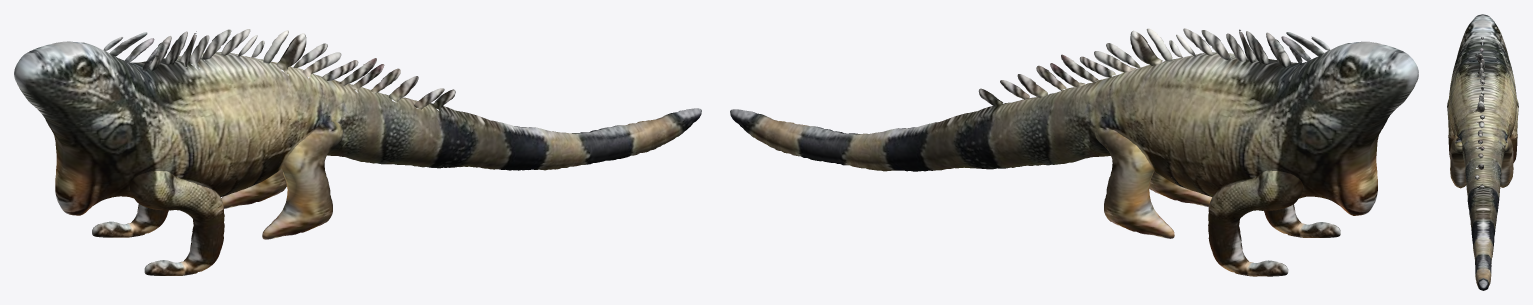
Rendered from iguana100.glb.
The picture shows the model from 3 angles, left to right: view 1: azimuth 30°, elevation 25°; view 2: azimuth 150°, elevation 25°; view 3: azimuth 270°, elevation 25°; orthographic projection. The views are drawn at different scales.
Visible parts, largest first — view 1: Mesh_0; view 2: Mesh_0; view 3: Mesh_0.
Part boxes in pixels (x1=…): Mesh_0: x1=14, y1=29, x2=701, y2=275; Mesh_0: x1=730, y1=28, x2=1418, y2=276; Mesh_0: x1=1447, y1=14, x2=1518, y2=290.
Bounding box in the file's own units: 7.35 × 2.54 × 1.33.
Materials: 1 (1 with a texture image).
